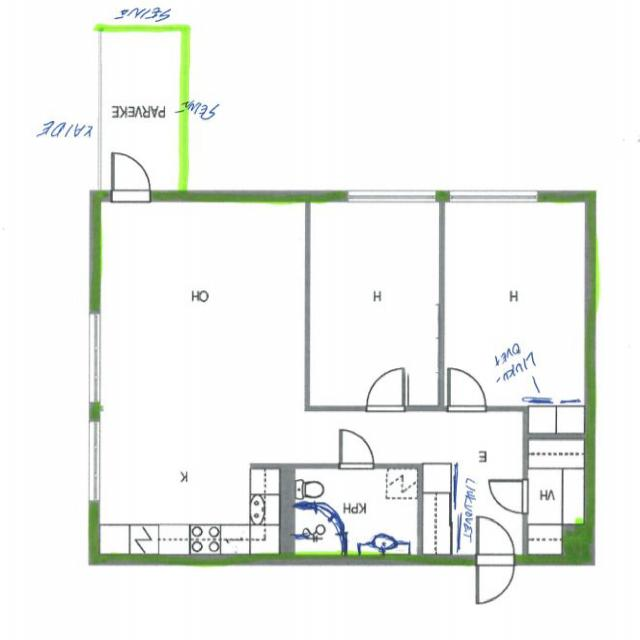door: (112, 153, 149, 201), (477, 517, 514, 565), (477, 554, 514, 602), (448, 368, 486, 410), (367, 368, 403, 410), (489, 480, 528, 513), (340, 431, 373, 468)
